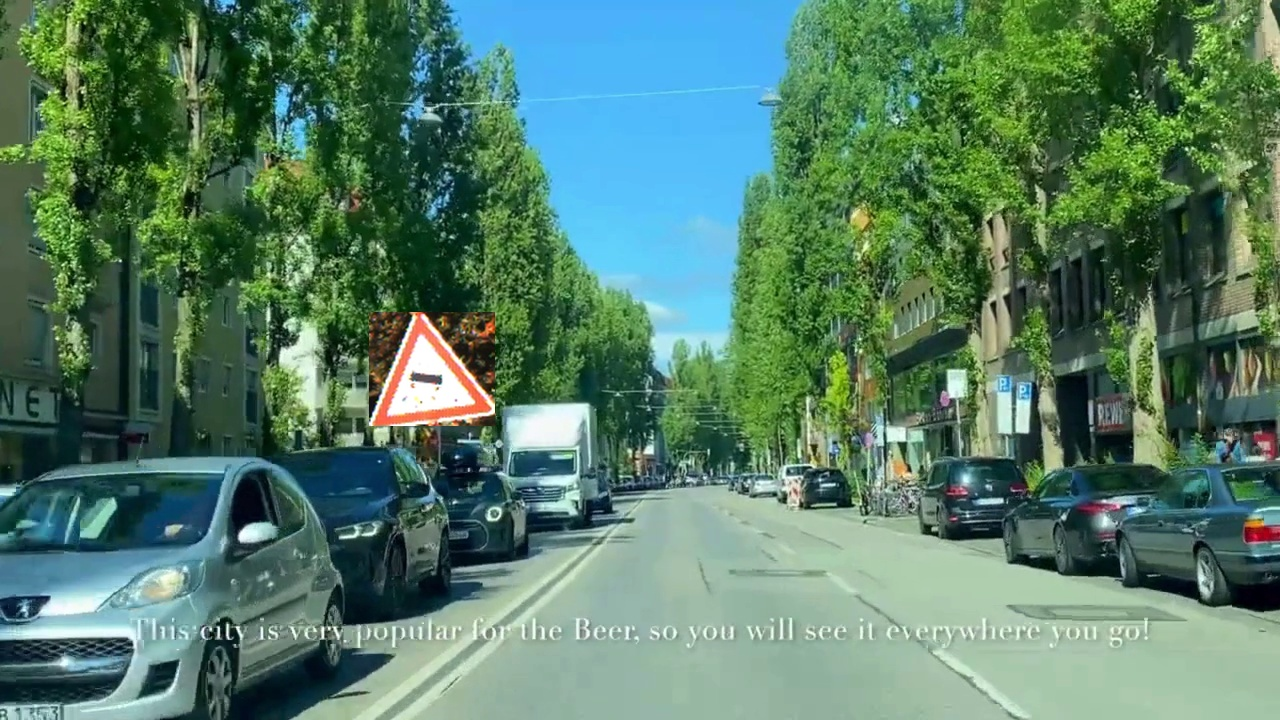Slippery: (369, 312, 495, 426)
